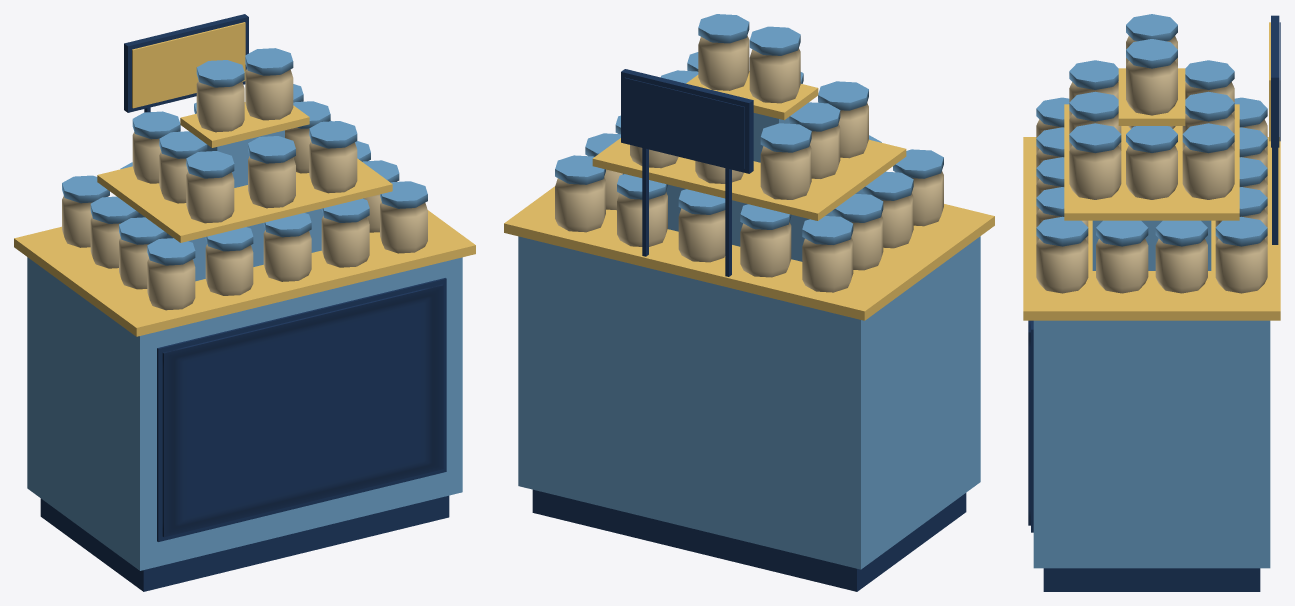
3 views of the same model, side by side, from view 1: azimuth 30°, elevation 25°; view 2: azimuth 150°, elevation 25°; view 3: azimuth 270°, elevation 25° (orthographic). The views are drawn at different scales.
Visible parts, largest first — view 1: Tiered breakfast stand, Three rows of capped jars, Blank header; view 2: Tiered breakfast stand, Three rows of capped jars, Blank header; view 3: Tiered breakfast stand, Three rows of capped jars, Blank header.
Part boxes in pixels (x1,y1,x2,y2): Tiered breakfast stand: [14, 102, 475, 591]; Three rows of capped jars: [62, 48, 427, 310]; Blank header: [124, 14, 248, 112]; Tiered breakfast stand: [504, 71, 994, 591]; Three rows of capped jars: [555, 14, 943, 292]; Blank header: [621, 69, 753, 276]; Tiered breakfast stand: [1023, 68, 1280, 591]; Three rows of capped jars: [1036, 14, 1267, 293]; Blank header: [1269, 15, 1280, 244].
Size of the model in its own units: 1.65 by 2.1 by 1.03.
Materials: 1 (1 with a texture image).
